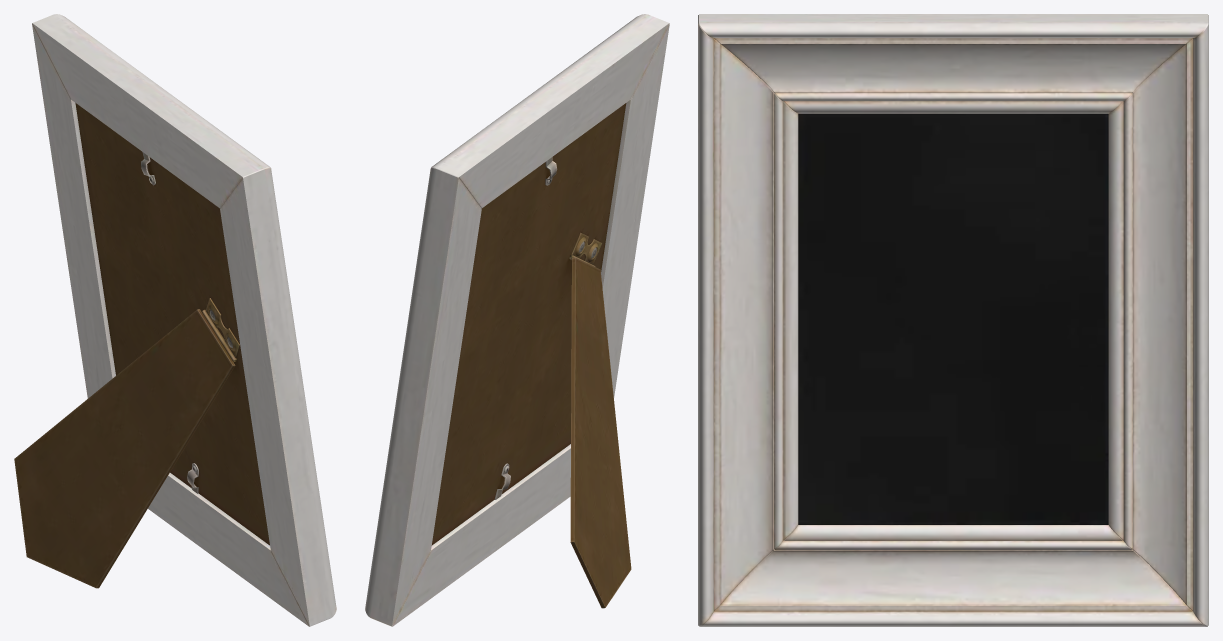
Rendered from standing_picture_frame_02.glb.
3 views of the same model, side by side, from view 1: azimuth 30°, elevation 25°; view 2: azimuth 150°, elevation 25°; view 3: azimuth 270°, elevation 25° (orthographic). The views are drawn at different scales.
Parts seen in each view (by area): view 1: standing_picture_frame_02; view 2: standing_picture_frame_02; view 3: standing_picture_frame_02.
Part boxes in pixels (x1=…): standing_picture_frame_02: x1=14, y1=14, x2=336, y2=626; standing_picture_frame_02: x1=365, y1=14, x2=669, y2=626; standing_picture_frame_02: x1=698, y1=14, x2=1208, y2=626.
Bounding box in the file's own units: 0.1023 × 0.2664 × 0.2169.
Materials: 3 (3 with a texture image).
